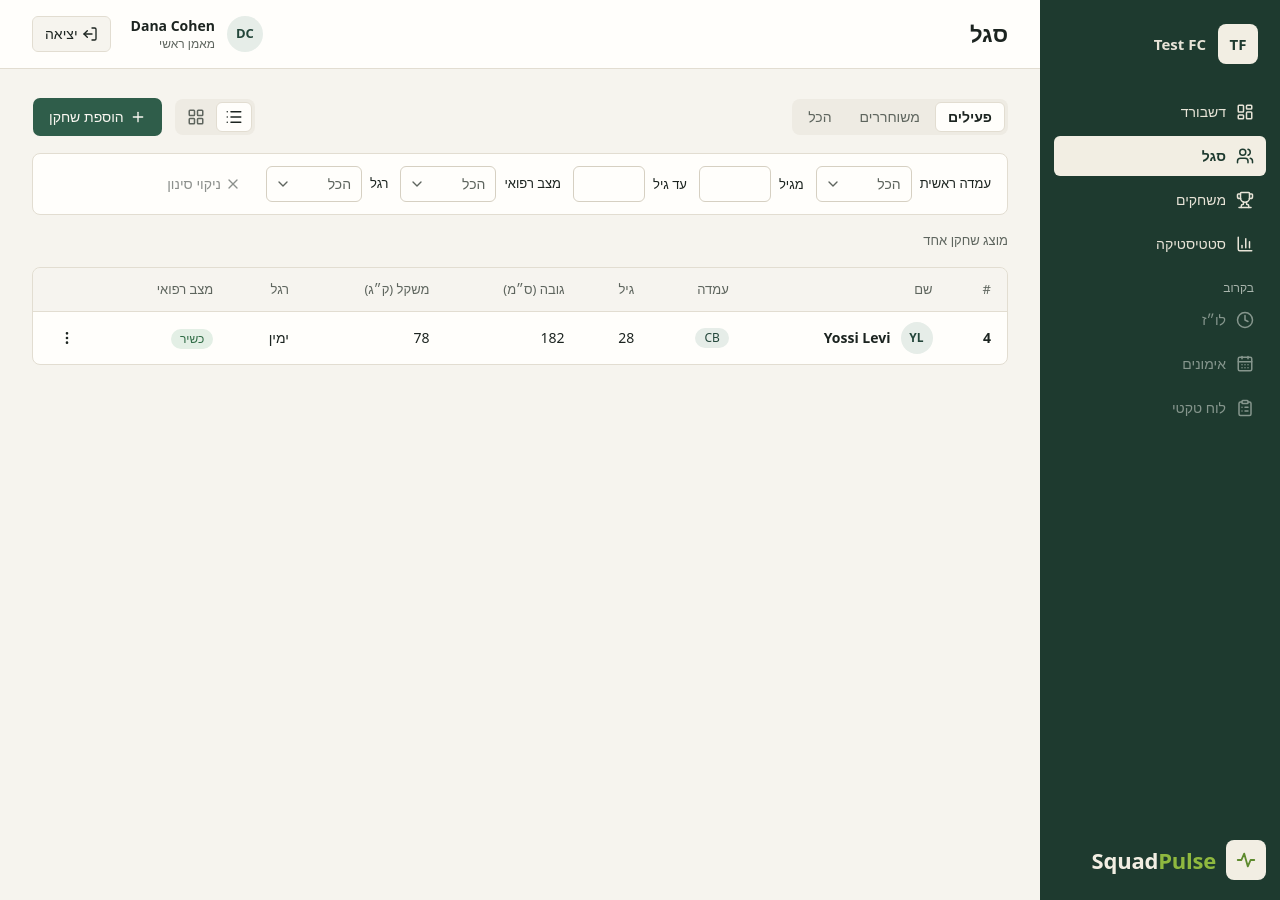
Test: the list request › carries a position, under the API's name, in the page URL too
expect the heading "סגל" is shown: met, box [970,20,1008,48]
Click the dropdown named "עמדה ראשית" at coordinates (864, 184), box [816,166,912,202]
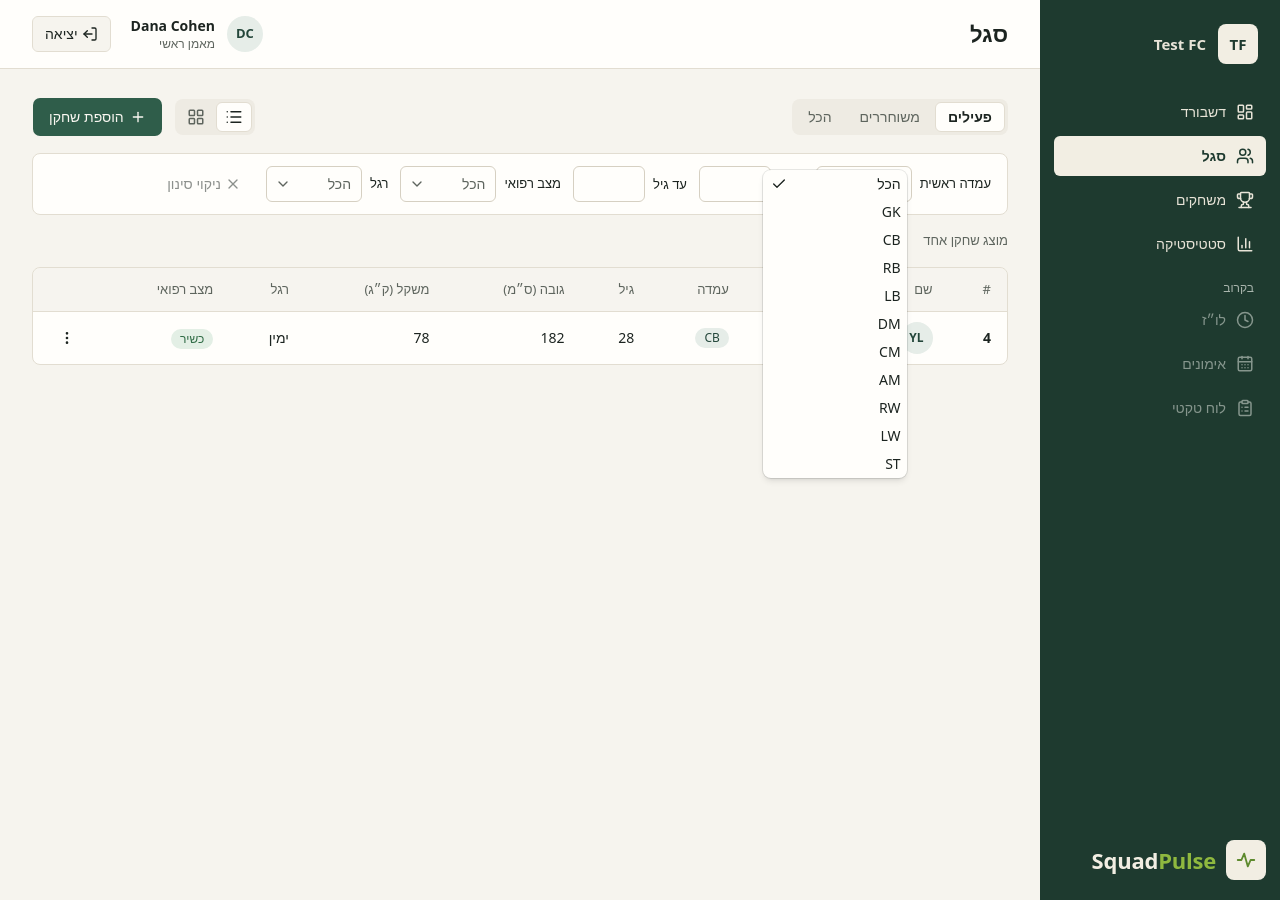
Click the option "CB" at coordinates (892, 240), box [883,230,901,249]
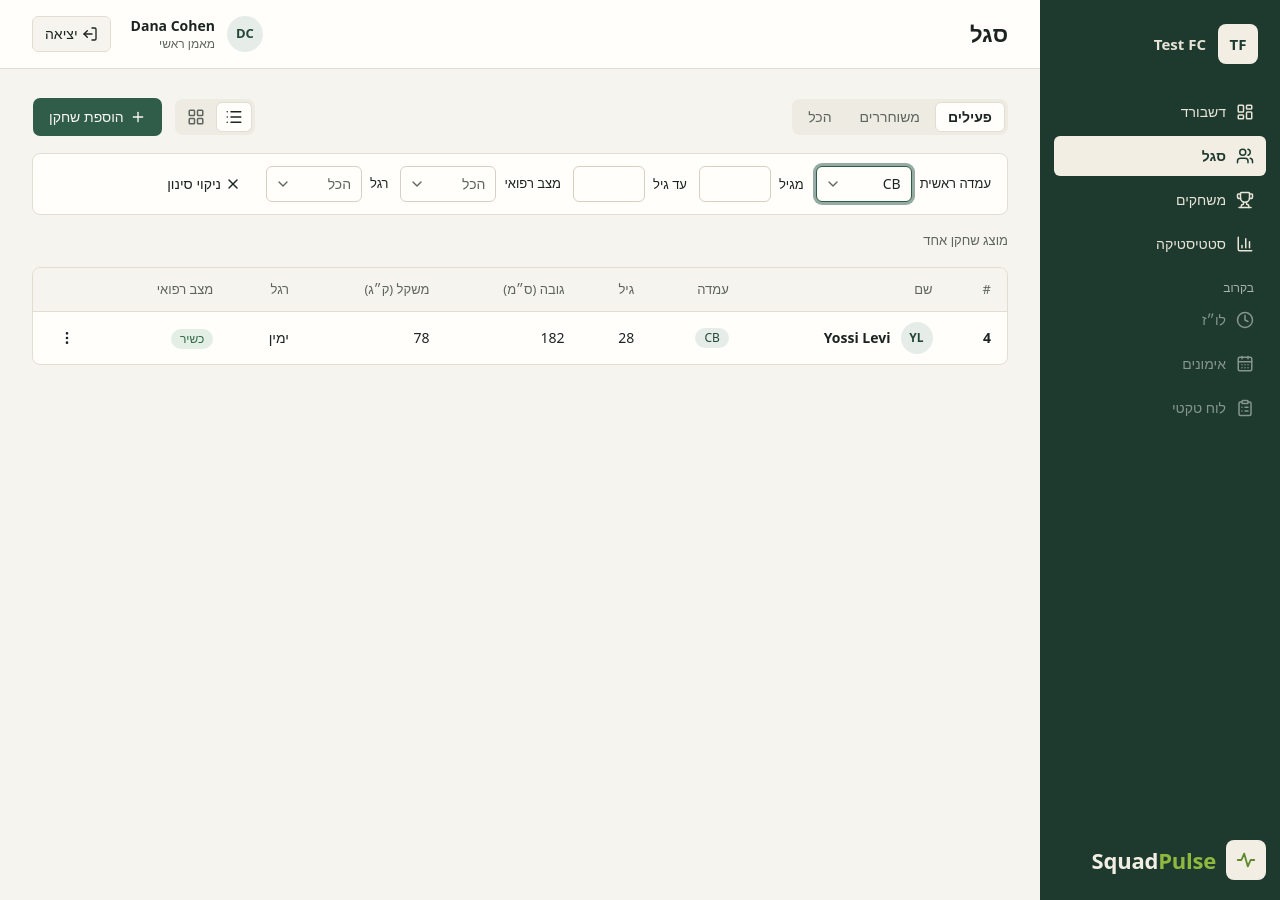
expect the list "הכל GK CB RB LB DM CM AM RW LW ST" is gone: met
